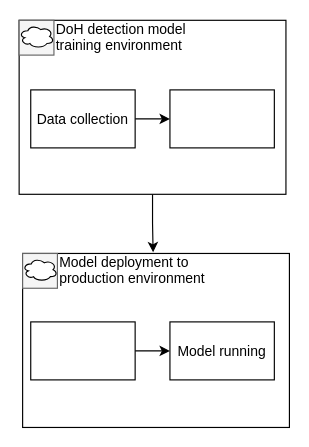
Image size: 309x447. Some labels were removed from this diagram. Here are the shapes that lost their labels. From the top down, the centre of each, then its label:
pixel 221 118: Model training
pixel 82 350: Model tuning
